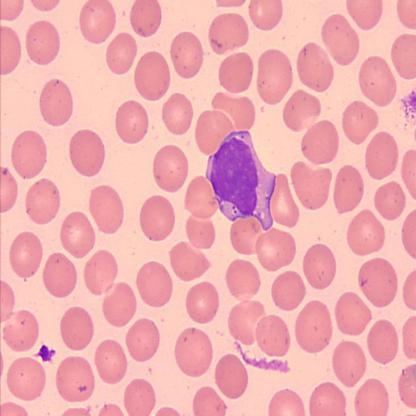Atypical lymphocyte: (205, 129, 277, 228)
